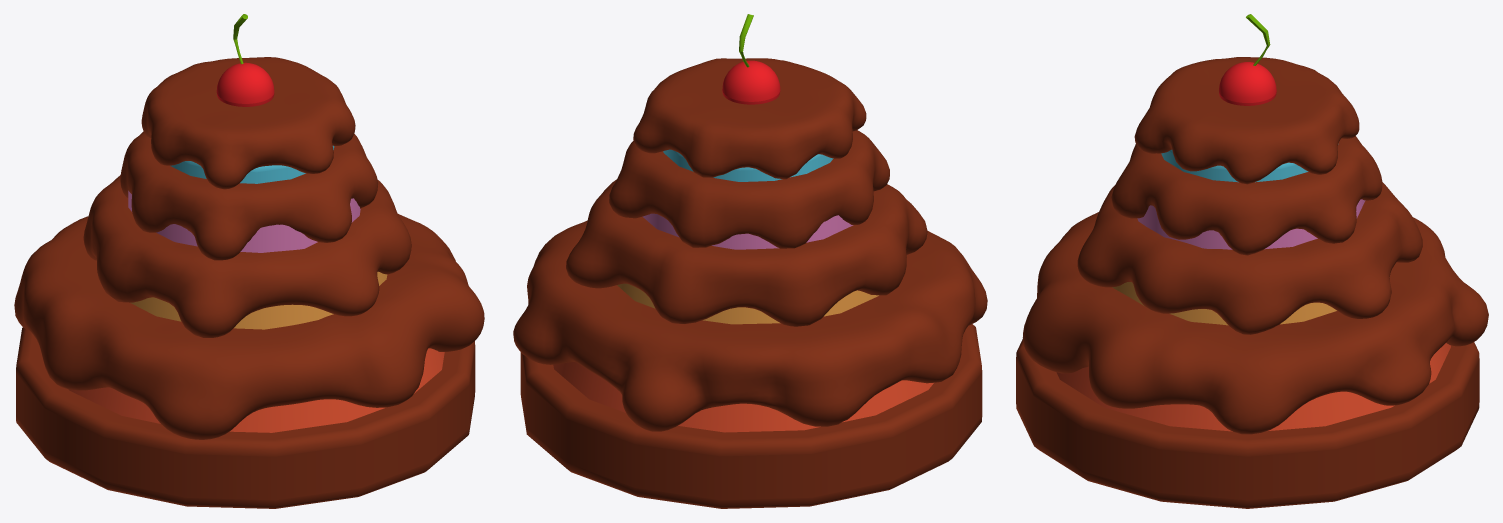
The model's file is Pie (1).fbx.
The picture shows the model from 3 angles, left to right: view 1: azimuth 30°, elevation 25°; view 2: azimuth 150°, elevation 25°; view 3: azimuth 270°, elevation 25°; orthographic projection.
Parts seen in each view (by area): view 1: Cylinder.003, Cylinder.002, Cylinder.004, Cylinder.006, Cylinder.005; view 2: Cylinder.003, Cylinder.002, Cylinder.004, Cylinder.006, Cylinder.005; view 3: Cylinder.003, Cylinder.002, Cylinder.004, Cylinder.006, Cylinder.005.
Boxes of the visible parts, <box> form: Cylinder.003: <box>14,214,484,439</box>; Cylinder.002: <box>16,327,475,508</box>; Cylinder.004: <box>83,175,411,337</box>; Cylinder.006: <box>141,14,355,189</box>; Cylinder.005: <box>120,131,377,260</box>; Cylinder.003: <box>513,220,987,432</box>; Cylinder.002: <box>520,324,982,508</box>; Cylinder.004: <box>566,179,927,326</box>; Cylinder.006: <box>633,14,866,181</box>; Cylinder.005: <box>609,130,889,249</box>; Cylinder.003: <box>1022,212,1488,434</box>; Cylinder.002: <box>1016,339,1479,508</box>; Cylinder.004: <box>1077,182,1422,334</box>; Cylinder.006: <box>1134,14,1359,184</box>; Cylinder.005: <box>1111,136,1382,255</box>.
Bounding box in the file's own units: 2.04 × 1.9 × 2.04.
